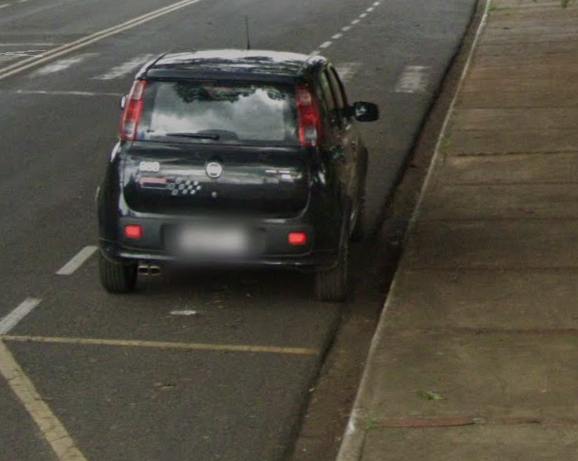car: (90, 43, 377, 311)
